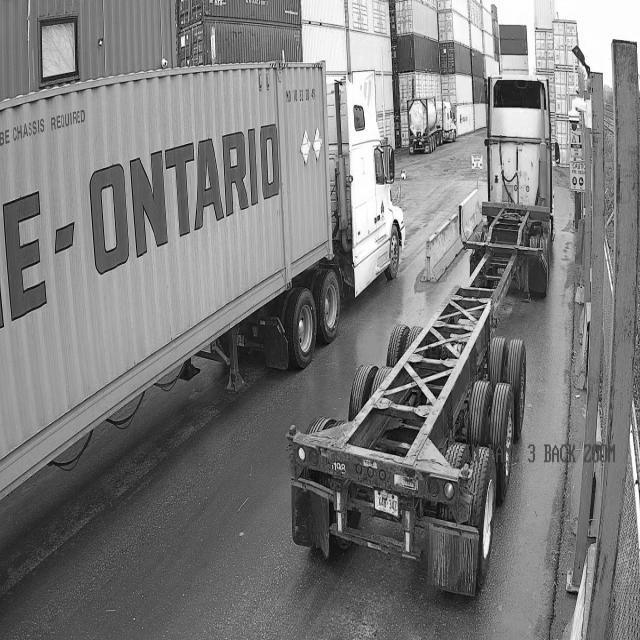license_plate: (374, 486, 400, 518)
truck_with_container: (0, 63, 406, 498)
truck_without_container: (288, 74, 560, 596)
